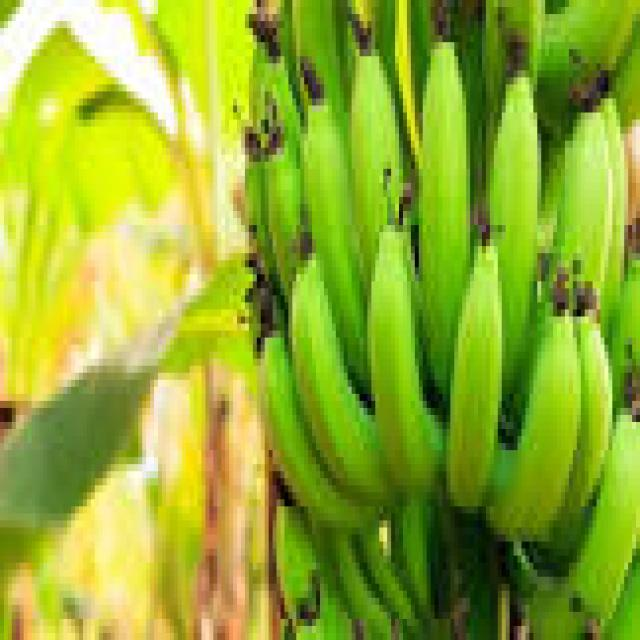banana: (289, 254, 391, 506), (530, 408, 639, 639), (486, 289, 580, 541), (261, 331, 375, 527), (305, 64, 367, 386), (368, 226, 442, 492), (419, 43, 470, 393), (490, 78, 541, 393), (447, 233, 501, 513), (352, 15, 402, 281), (558, 303, 612, 527), (538, 0, 639, 119), (554, 113, 612, 295), (273, 507, 351, 639), (482, 0, 545, 140), (249, 8, 300, 154), (293, 0, 347, 133), (328, 535, 395, 639), (455, 0, 489, 203), (265, 127, 304, 295), (356, 528, 418, 632), (601, 99, 628, 330), (455, 521, 501, 639), (392, 500, 434, 625), (392, 0, 422, 168), (245, 127, 276, 281), (609, 261, 639, 407), (538, 141, 564, 267), (605, 556, 639, 639), (368, 0, 399, 91), (613, 22, 639, 126)
